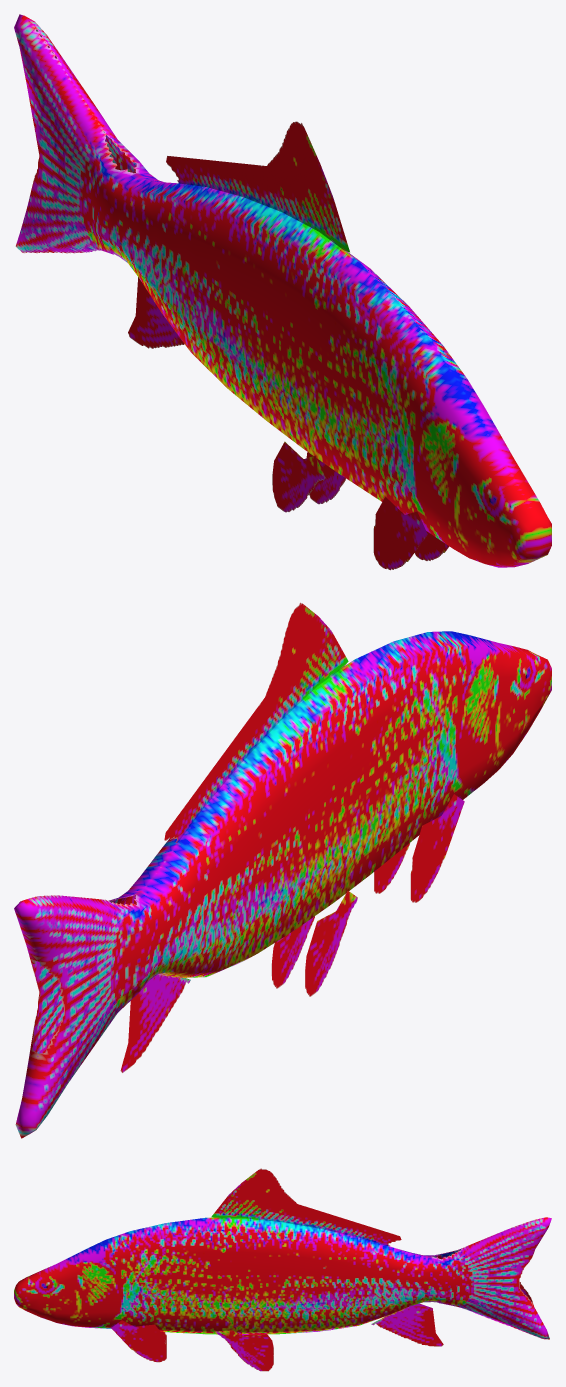
Rendered from RedHerring.obj.
The picture shows the model from 3 angles, top to bottom: view 1: azimuth 30°, elevation 25°; view 2: azimuth 150°, elevation 25°; view 3: azimuth 270°, elevation 25°; orthographic projection. The views are drawn at different scales.
Bounding box in the file's own units: 0.2435 × 2.09 × 5.06.
